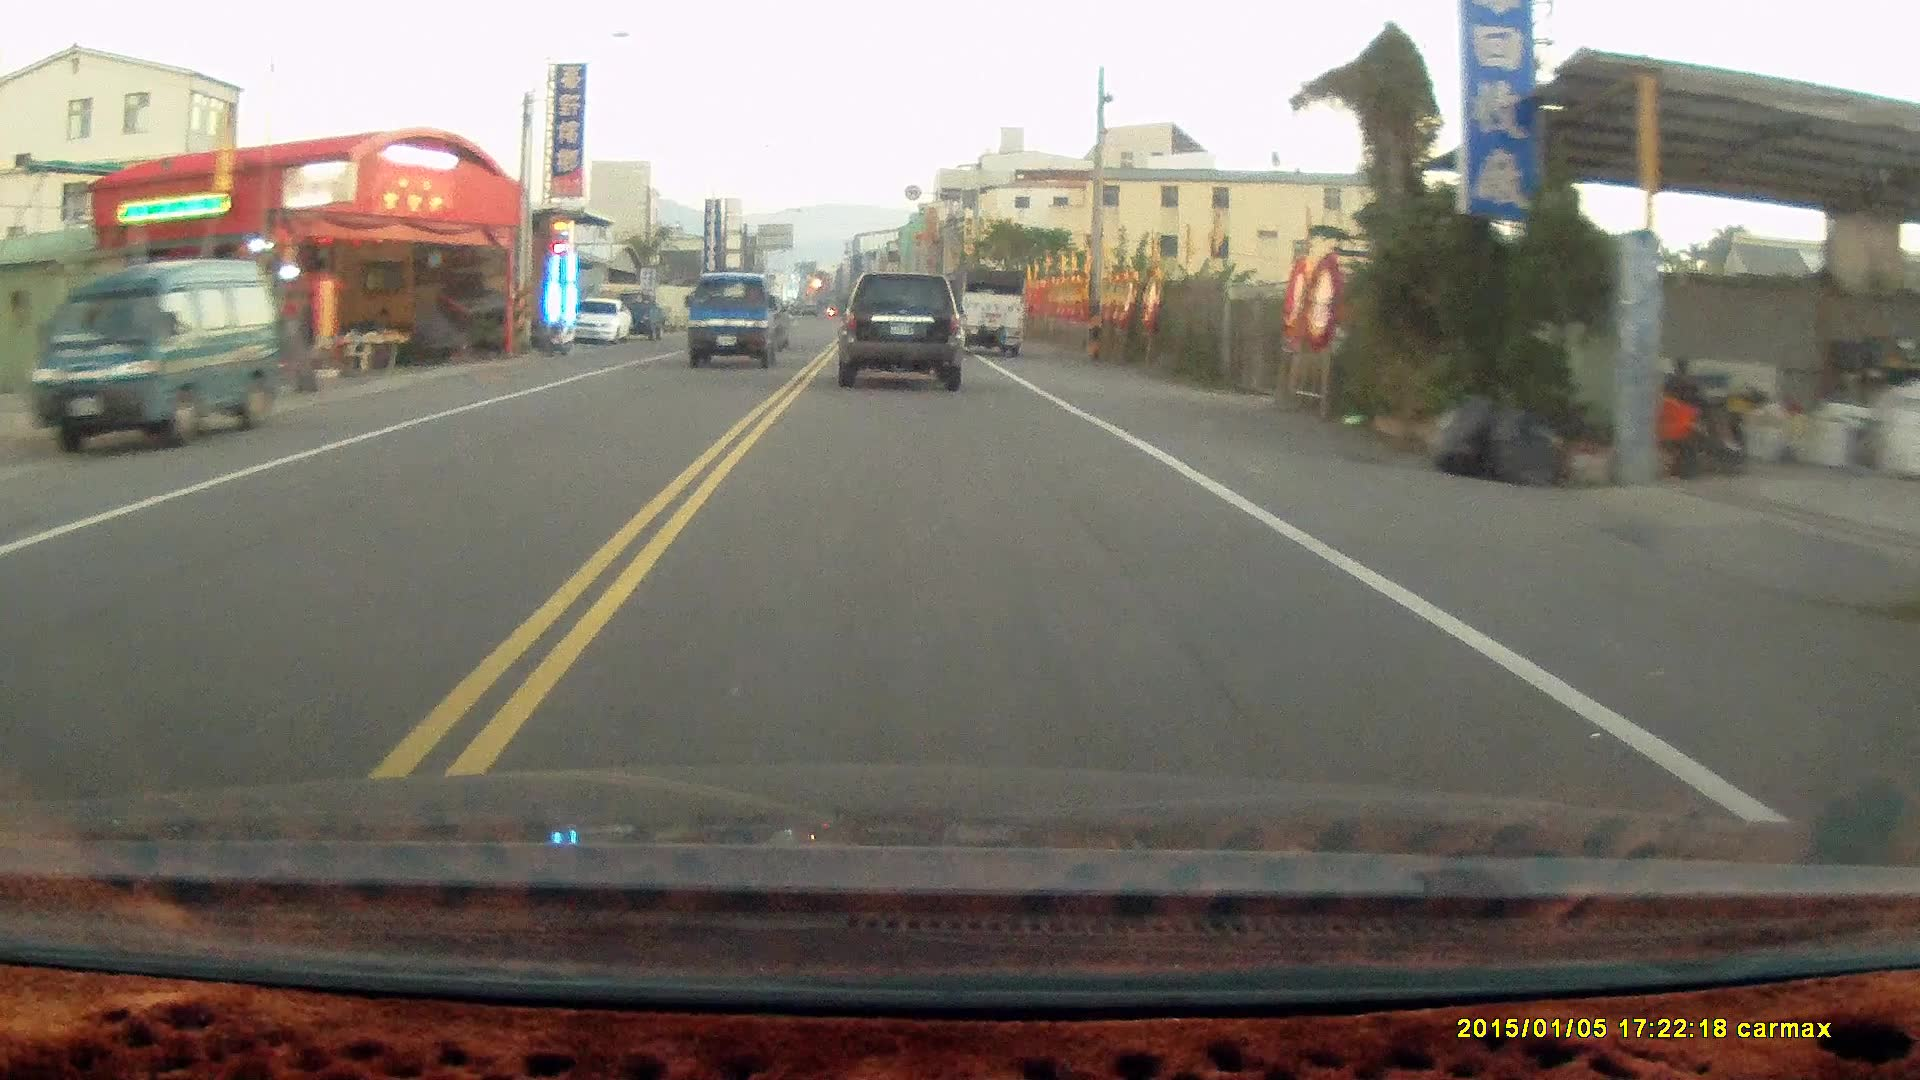vehicle: (26, 256, 284, 458), (839, 270, 965, 389), (684, 266, 791, 365), (939, 264, 1029, 357), (570, 297, 636, 343)
